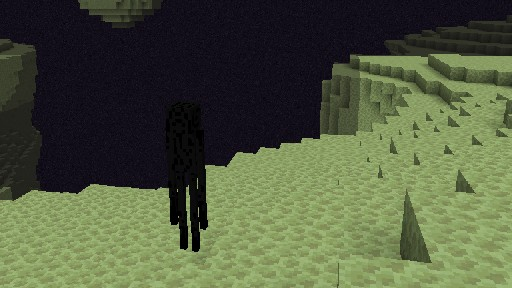enderman: (164, 101, 207, 254)
